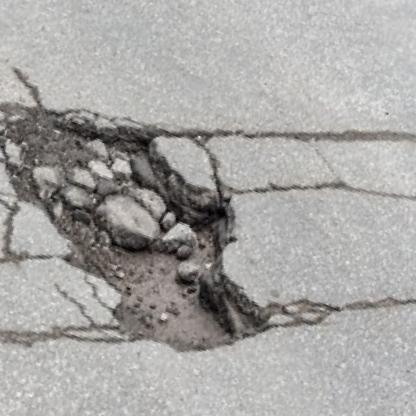pothole: (0, 76, 322, 383)
